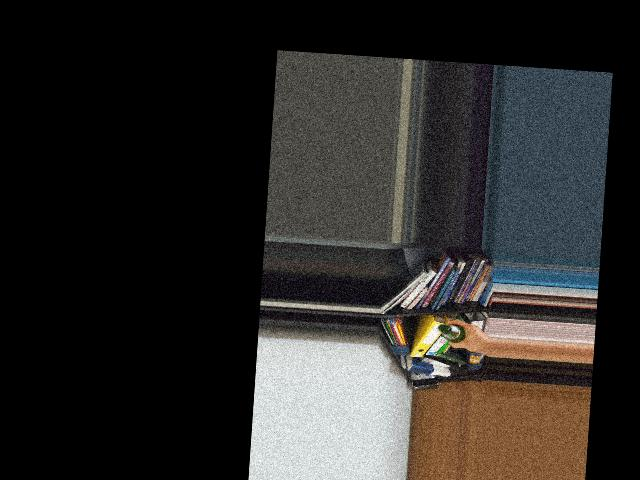beer: (437, 323, 466, 343)
